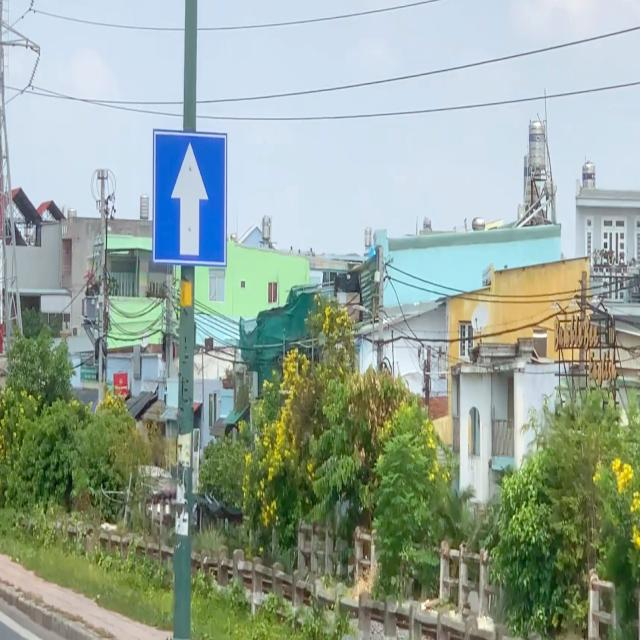Chi dan: (153, 124, 226, 270)
